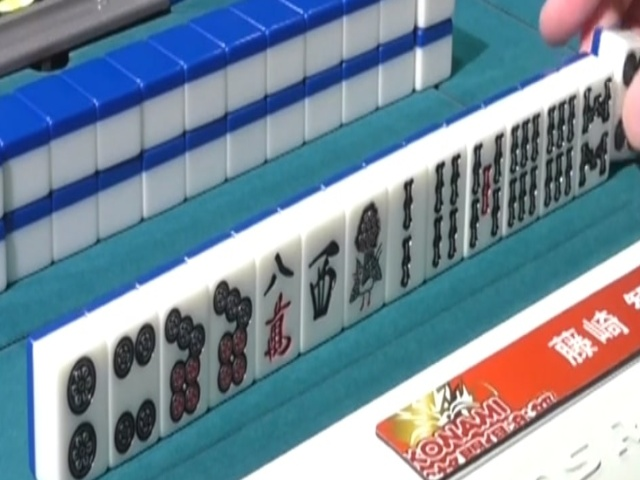1sou: (345, 200, 385, 316)
